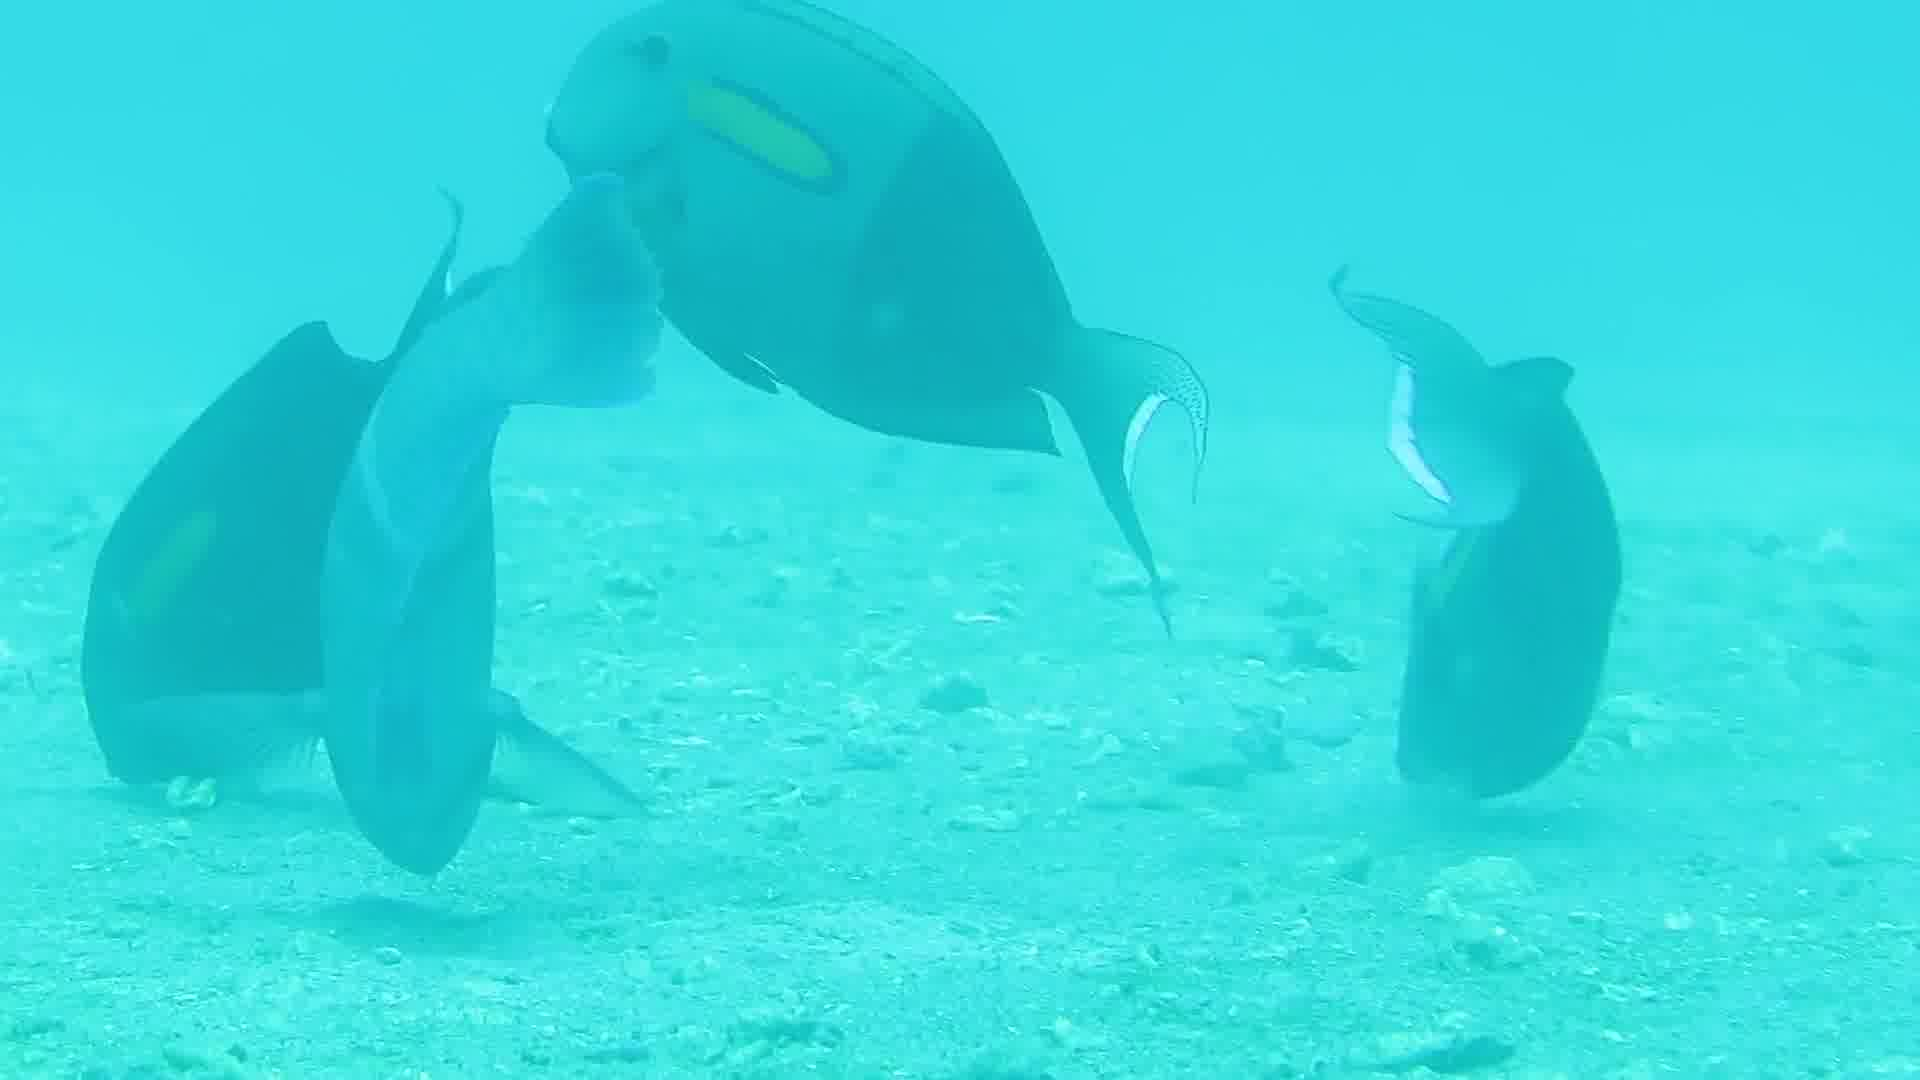Acanthurus olivaceus: (534, 1, 1247, 633), (78, 200, 584, 886), (1280, 214, 1787, 898)
